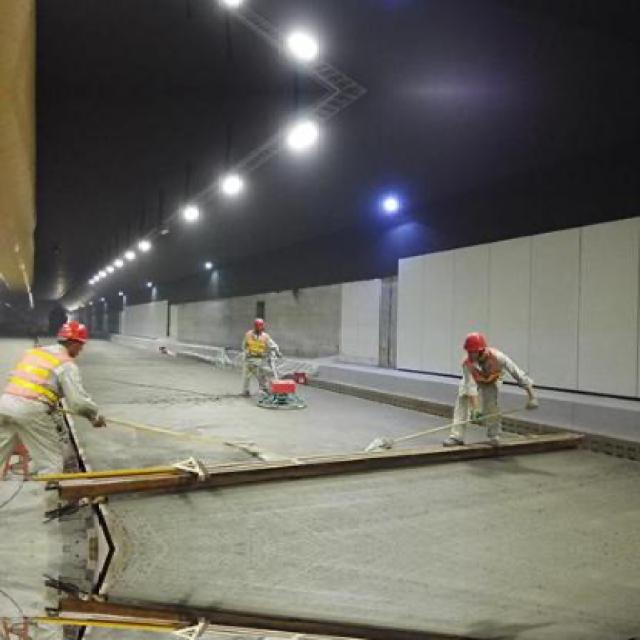con casco: (23, 313, 116, 372), (431, 321, 497, 401), (226, 303, 295, 350)
